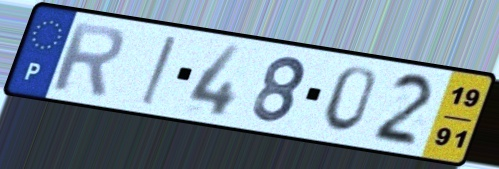0: (317, 64, 380, 136)
2: (369, 71, 438, 152)
4: (184, 41, 242, 120)
8: (249, 53, 308, 125)
I: (137, 32, 180, 109)
R: (49, 18, 127, 99)
